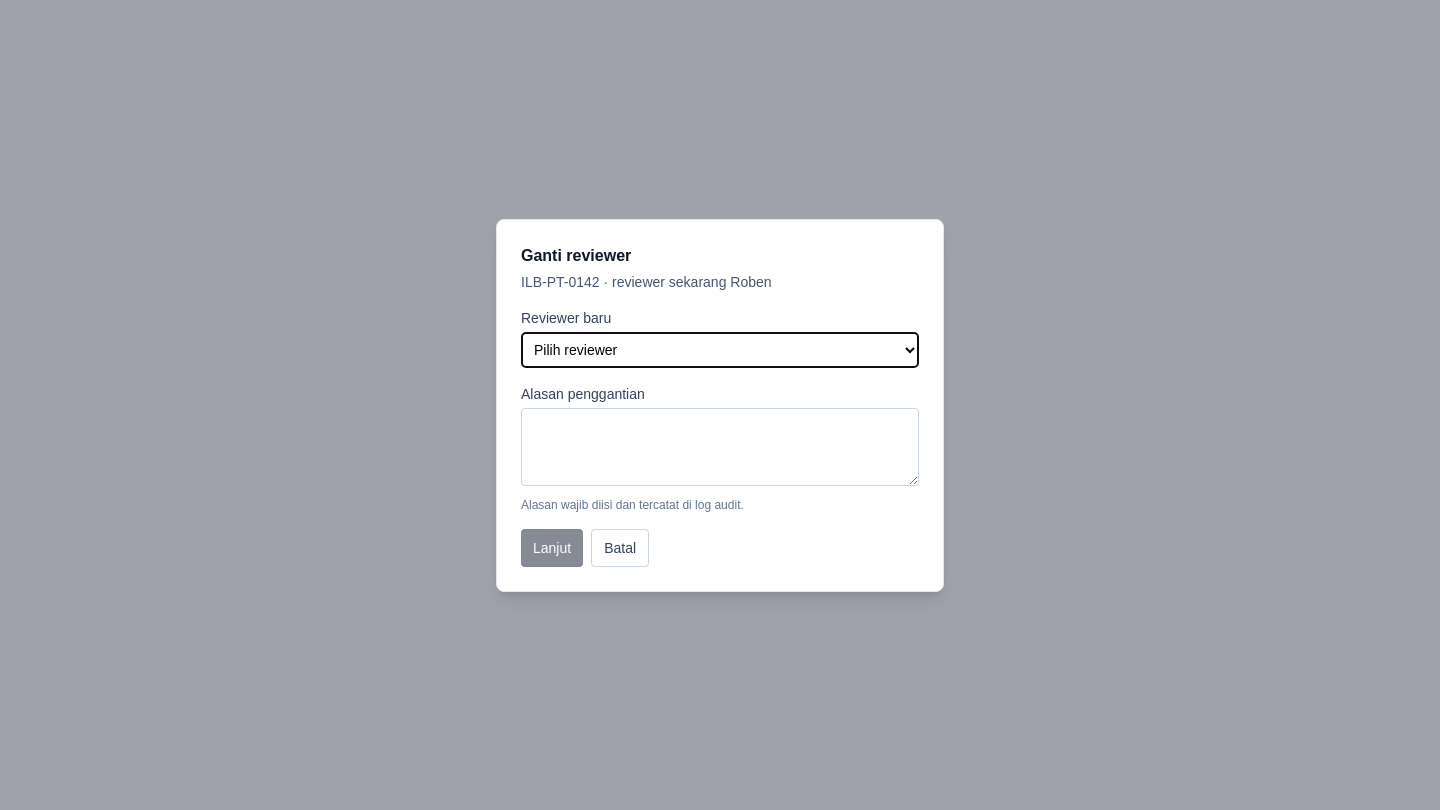
Test: SwapReviewerDialog › asks for confirmation before replacing
Select "Aileen" in the dropdown labelled "Reviewer baru" at (720, 350), box [521, 332, 919, 368]
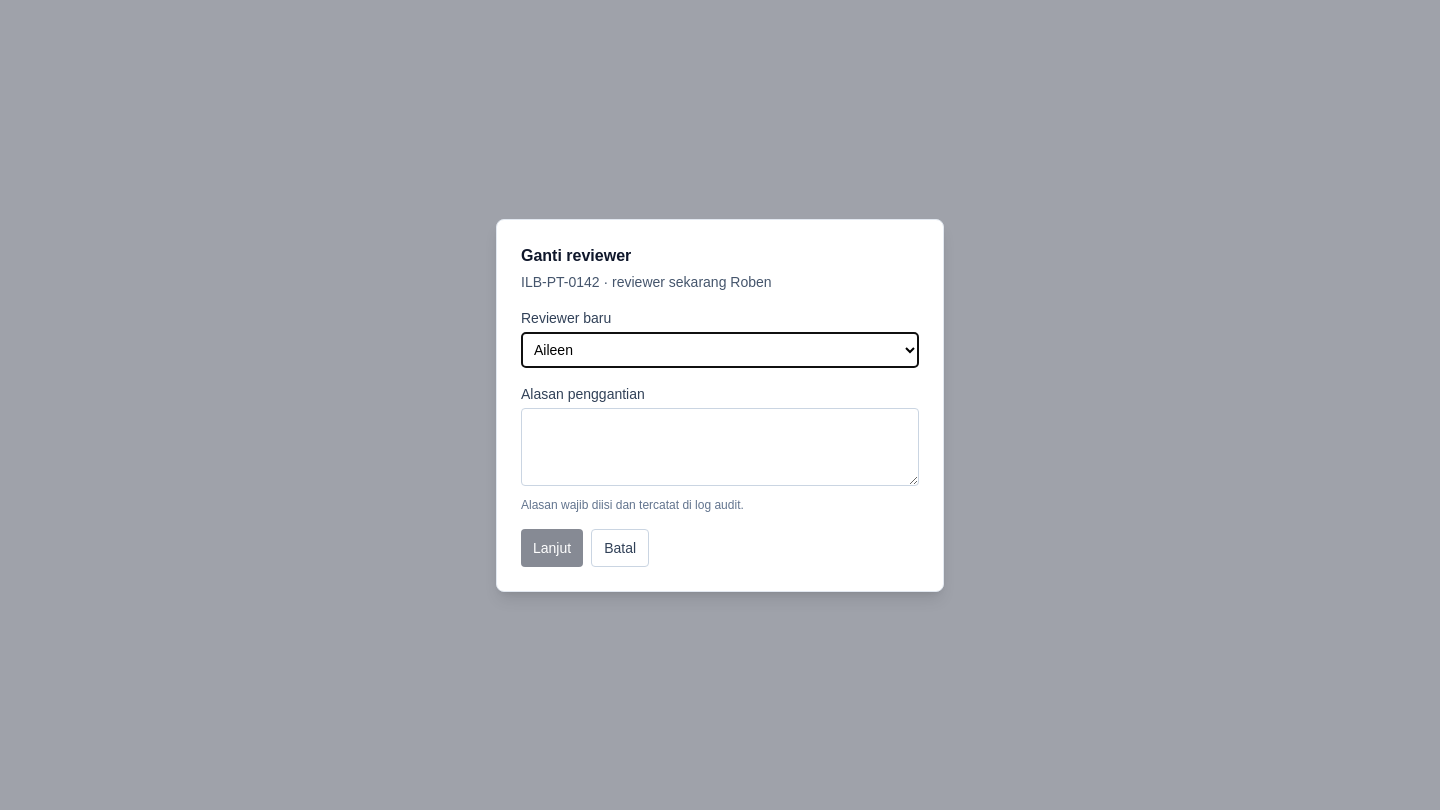
Type "Reviewer cuti" into the text box labelled "Alasan penggantian".
click(720, 446); type("Reviewer cuti")  # box [521, 408, 919, 486]
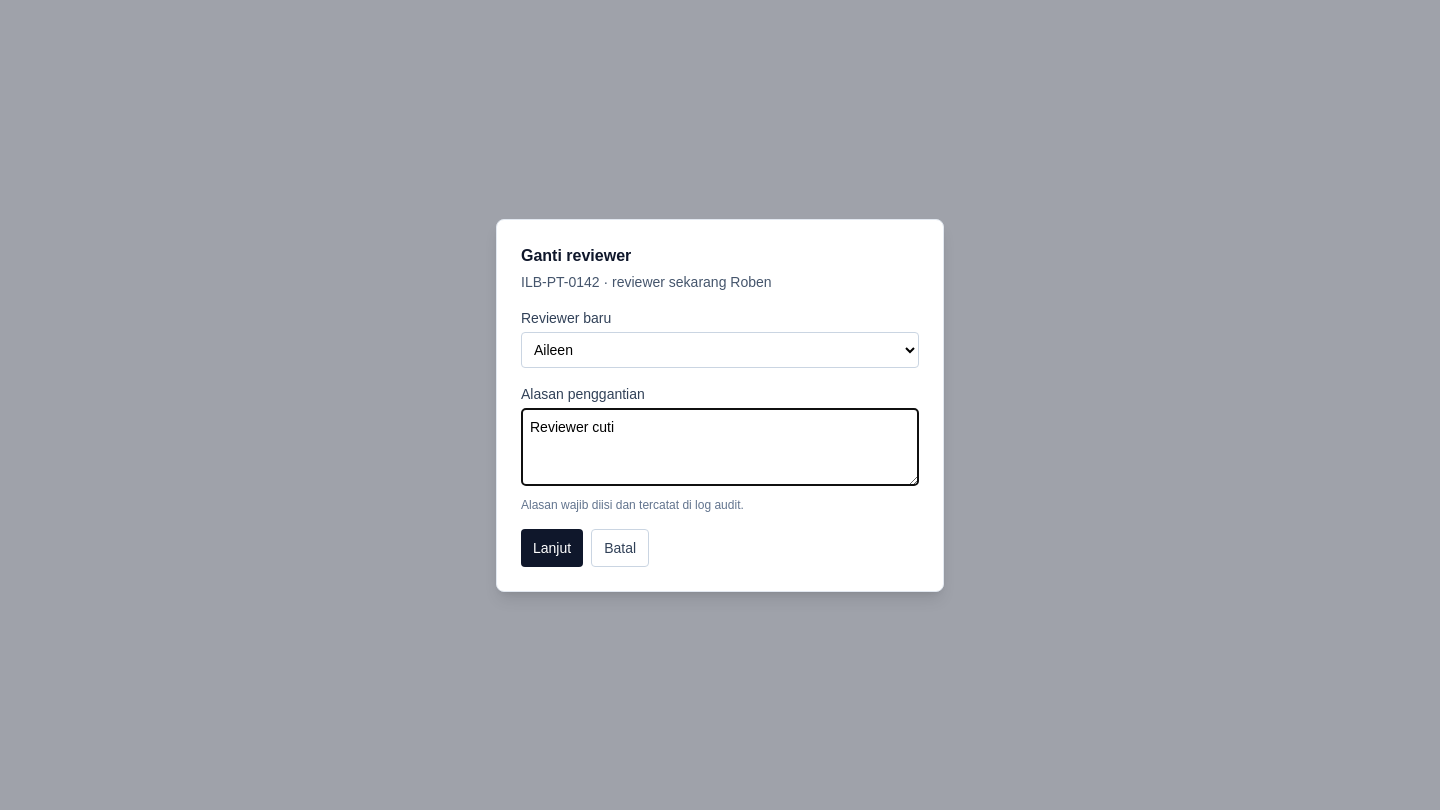
Click the button "Lanjut".
click(552, 548)  # box [521, 528, 583, 566]
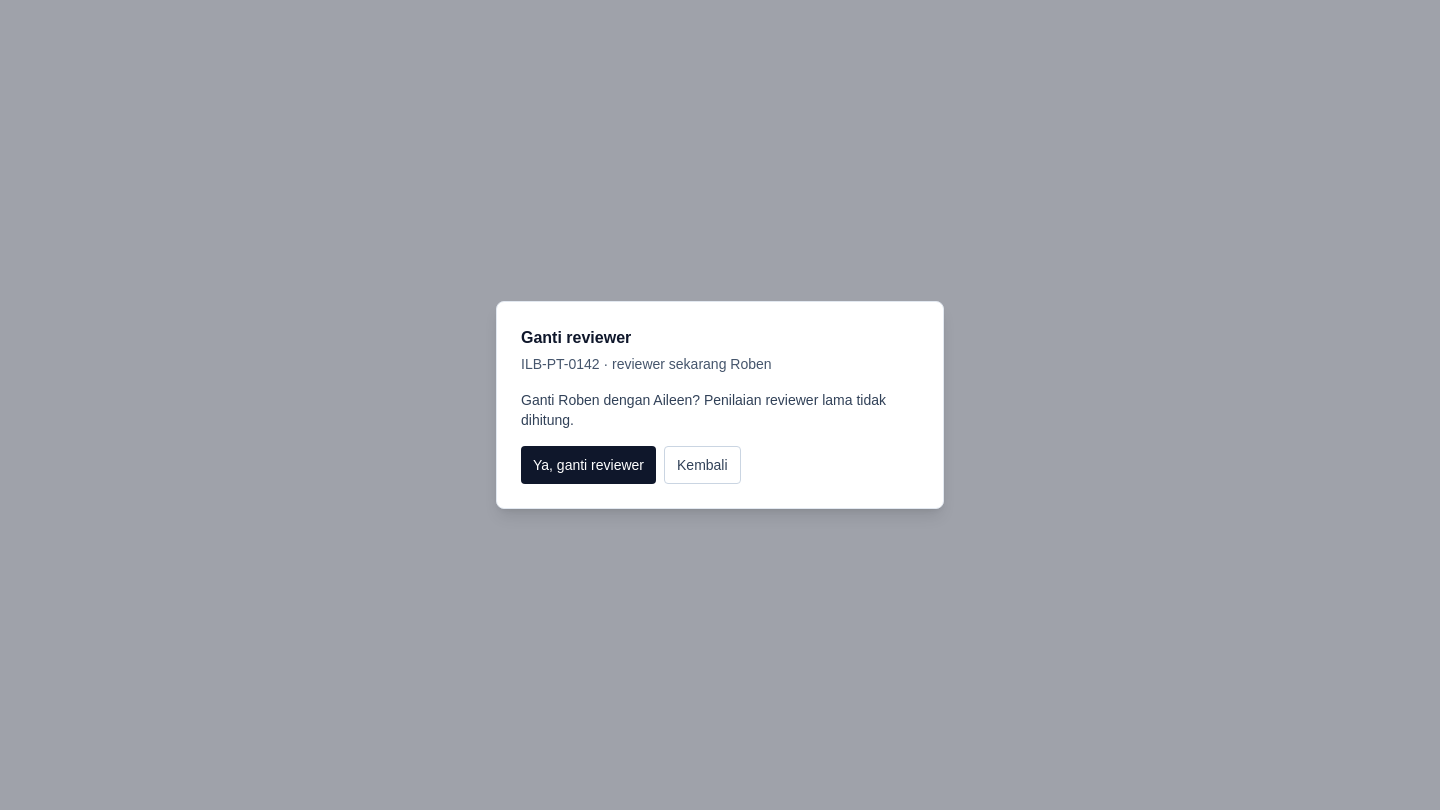
Expected: the text "Ganti Roben dengan Aileen?" is shown, [521, 392, 886, 428]
